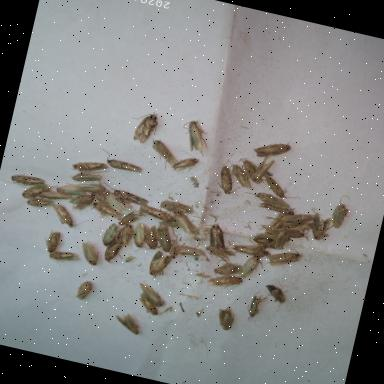pbw: (96, 148, 148, 175), (265, 240, 305, 274), (261, 173, 304, 204), (146, 138, 183, 174), (128, 109, 162, 148), (50, 204, 92, 232), (252, 136, 294, 164), (22, 178, 60, 206), (206, 270, 244, 296), (246, 190, 293, 211), (170, 210, 203, 238), (215, 166, 243, 198), (146, 250, 174, 282), (330, 194, 354, 231), (135, 283, 169, 309), (139, 202, 179, 224), (226, 164, 256, 192), (238, 253, 266, 283), (69, 158, 109, 179), (112, 310, 144, 336), (46, 247, 80, 271), (9, 171, 46, 193), (151, 224, 178, 254), (112, 189, 152, 209), (238, 159, 268, 185), (35, 186, 74, 206), (171, 150, 201, 176), (205, 222, 231, 252), (204, 244, 238, 266), (310, 212, 334, 243), (100, 191, 129, 216), (72, 179, 110, 198), (100, 220, 124, 250), (78, 239, 103, 267), (230, 243, 271, 260), (56, 182, 90, 202), (160, 199, 194, 219), (90, 202, 124, 222), (140, 224, 164, 252), (252, 158, 276, 186), (266, 225, 305, 242), (244, 293, 265, 324), (102, 239, 126, 266), (258, 200, 296, 217), (265, 212, 291, 236), (136, 292, 162, 316), (213, 260, 244, 280), (87, 192, 118, 212), (130, 222, 152, 250), (69, 170, 103, 188), (214, 306, 237, 332), (115, 222, 136, 250), (282, 210, 314, 228), (264, 284, 290, 306), (251, 236, 286, 252), (174, 243, 206, 260), (26, 195, 56, 213), (119, 208, 142, 231), (42, 229, 62, 255), (67, 192, 95, 210), (74, 279, 94, 303), (273, 228, 290, 254), (286, 216, 310, 234), (245, 242, 271, 256), (73, 198, 93, 216), (166, 240, 182, 260), (256, 230, 278, 242), (124, 254, 136, 265)
